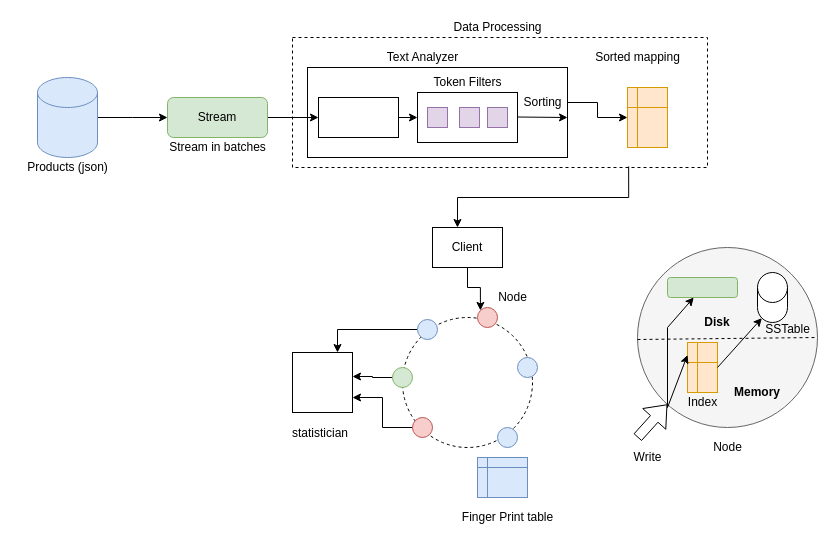
This 836x544 diagram has some shape labels left out. The centre of each missing label's shape, as x and y in pixels:
"Commit Log" goes at pixel 702 287.
"Tokenizer" goes at pixel 358 117.
